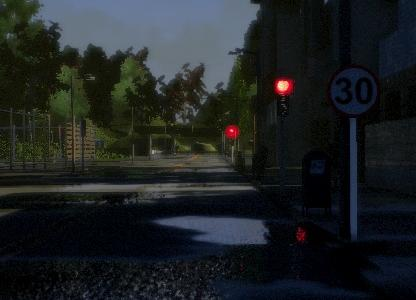Speed_30: (325, 64, 383, 121)
